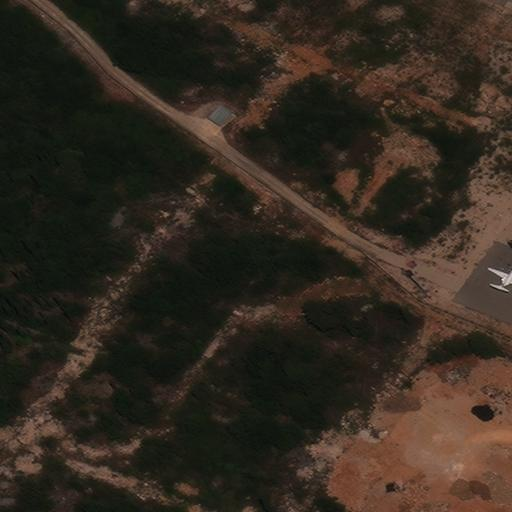Small Civil Transport: (487, 263, 511, 290)
